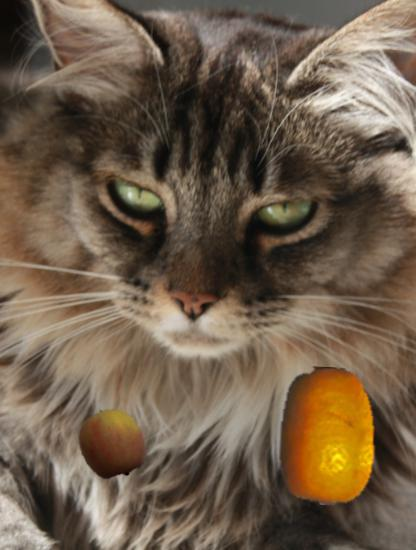Apple: (75, 406, 149, 480)
Kumquats: (258, 367, 397, 506)
